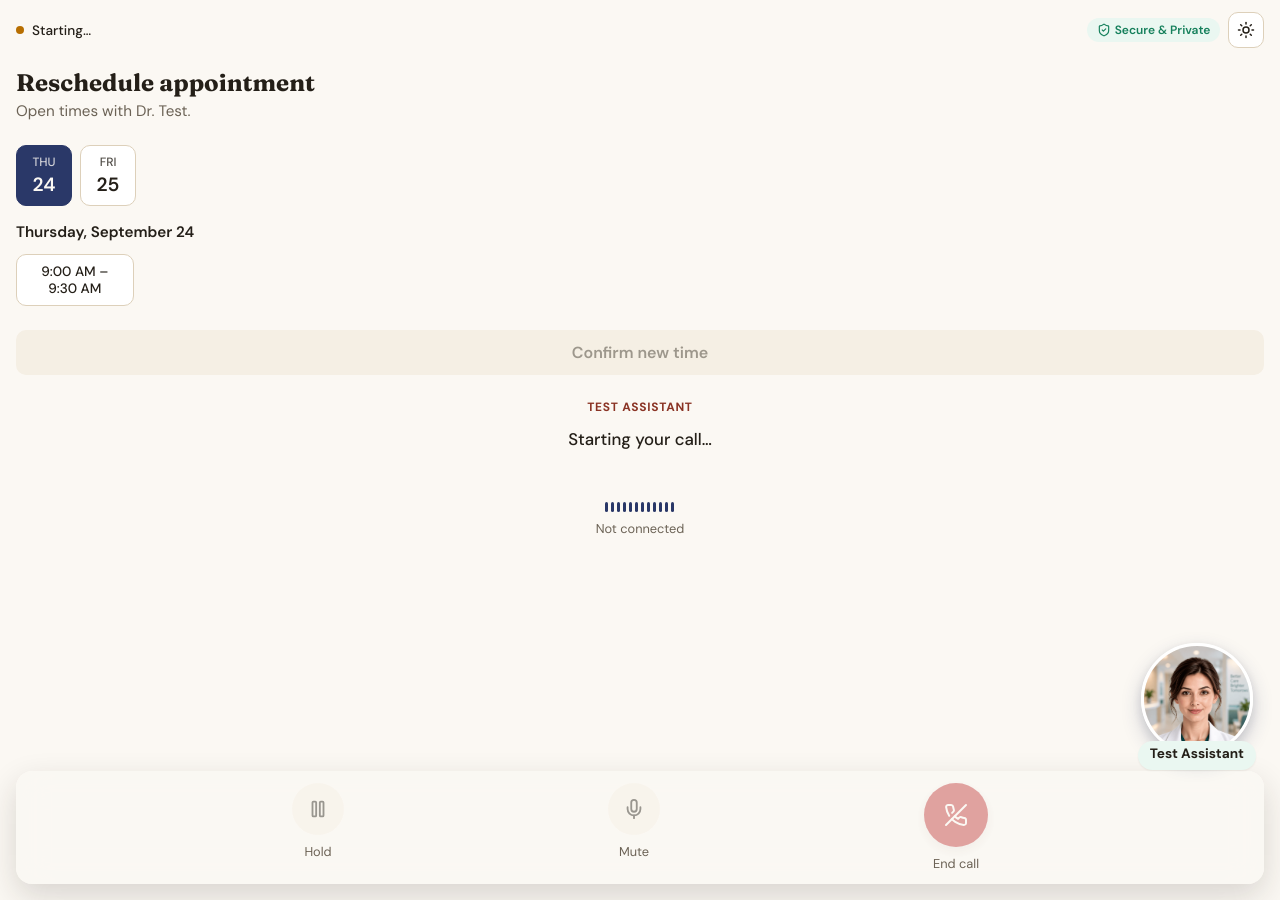
Test: AppointmentReschedule › says nothing to the assistant when the time was taken and nothing was saved
Click the button "9:00 AM – 9:30 AM".
click(75, 280)  # box [16, 254, 134, 306]
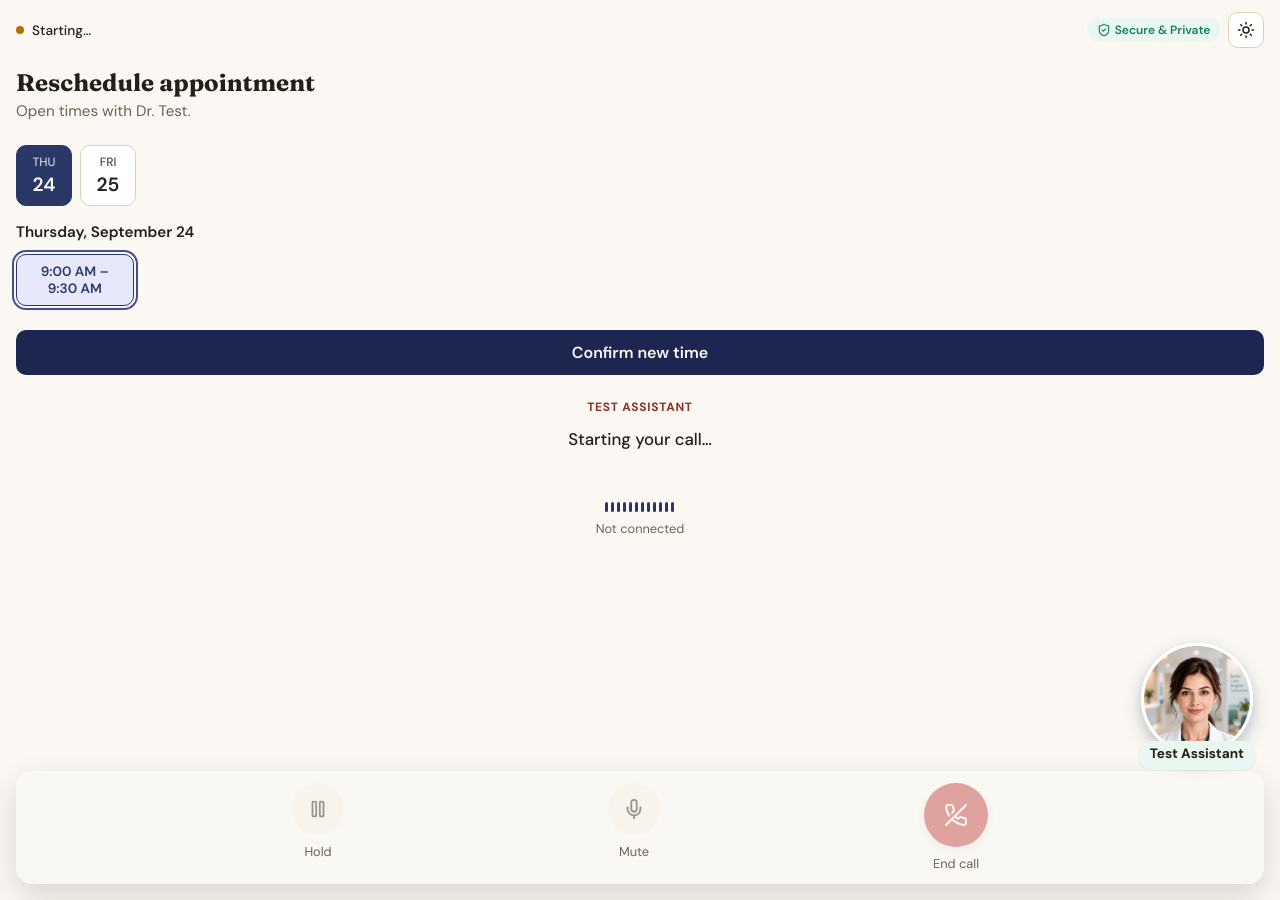
Click the button "Confirm new time".
click(640, 352)  # box [16, 330, 1264, 375]
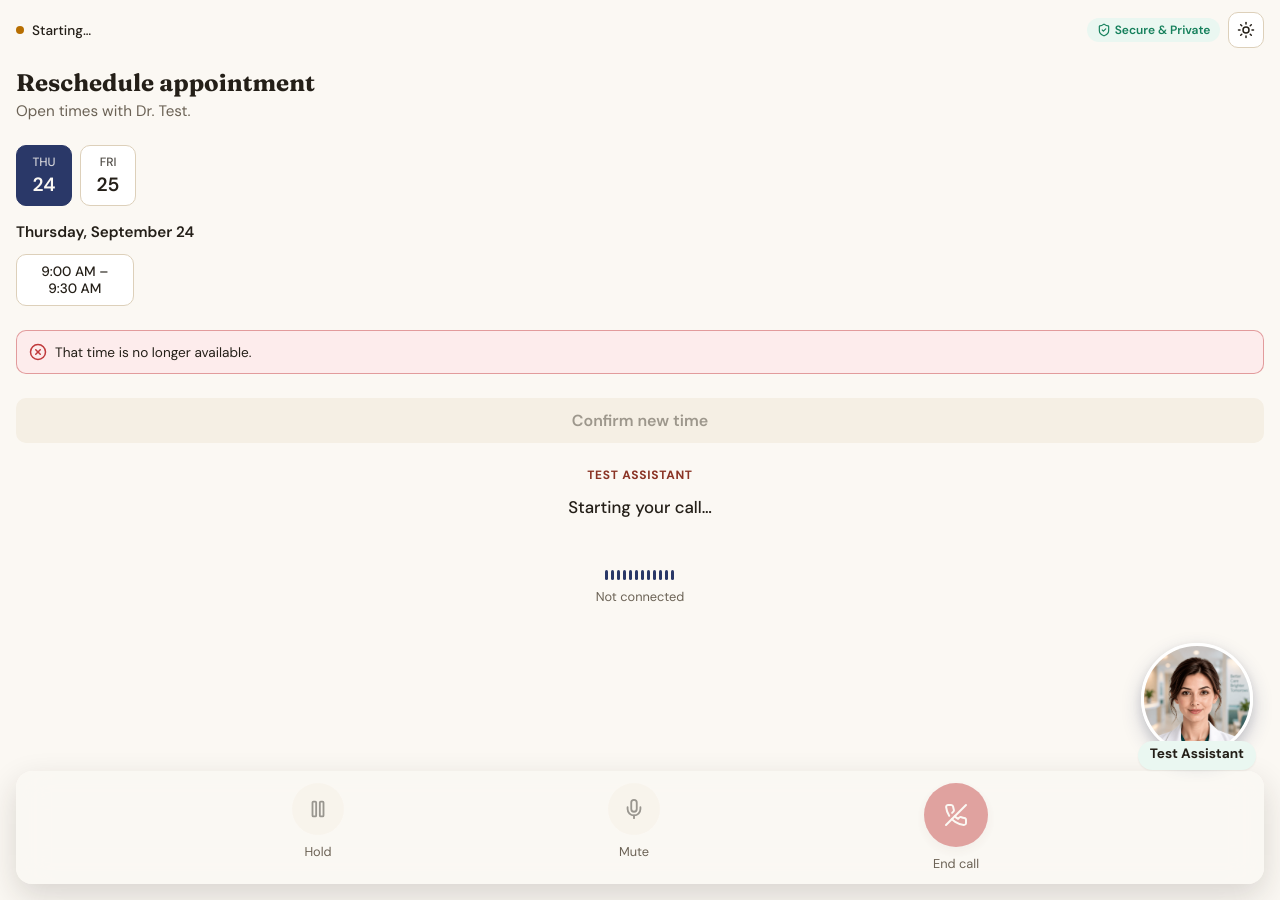
Now the text "That time is no longer available." is shown, box [55, 344, 251, 360]
